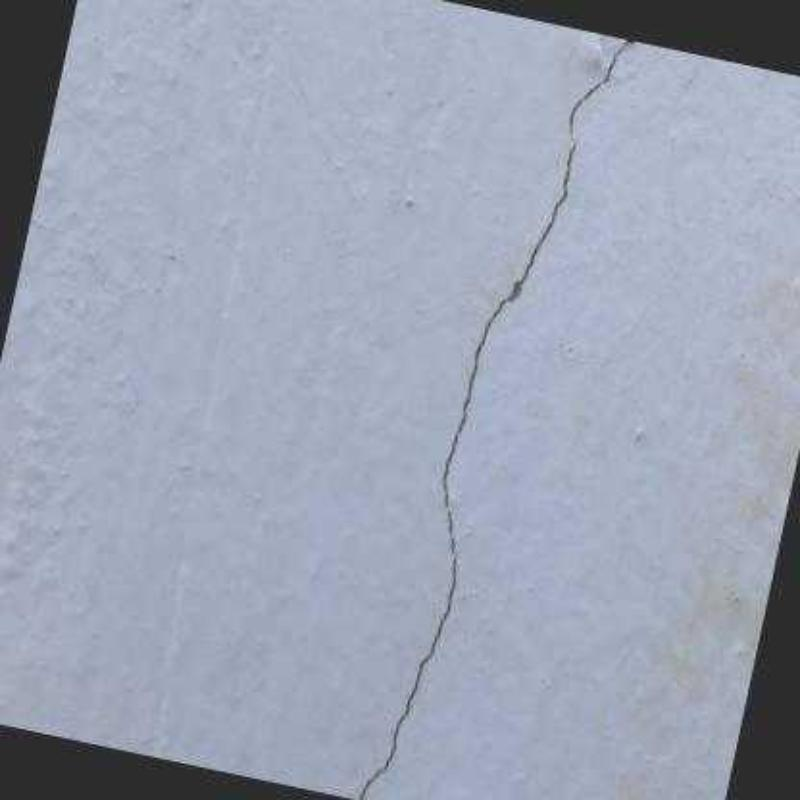crack: (356, 38, 639, 798)
